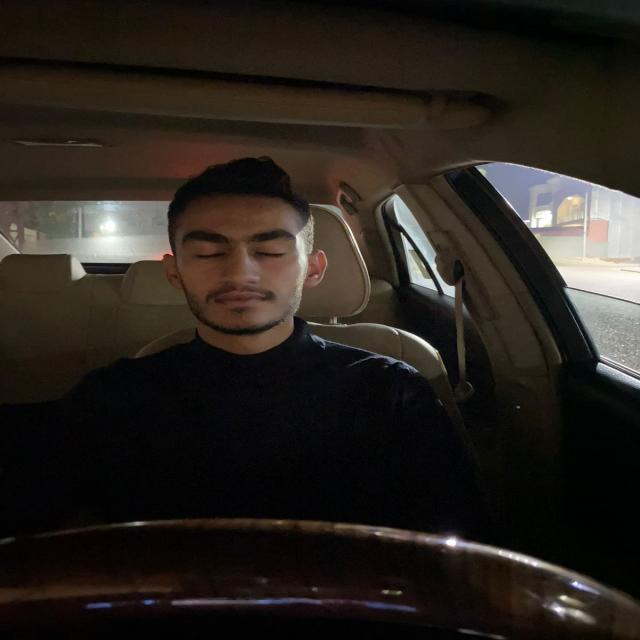person: (155, 144, 334, 348)
